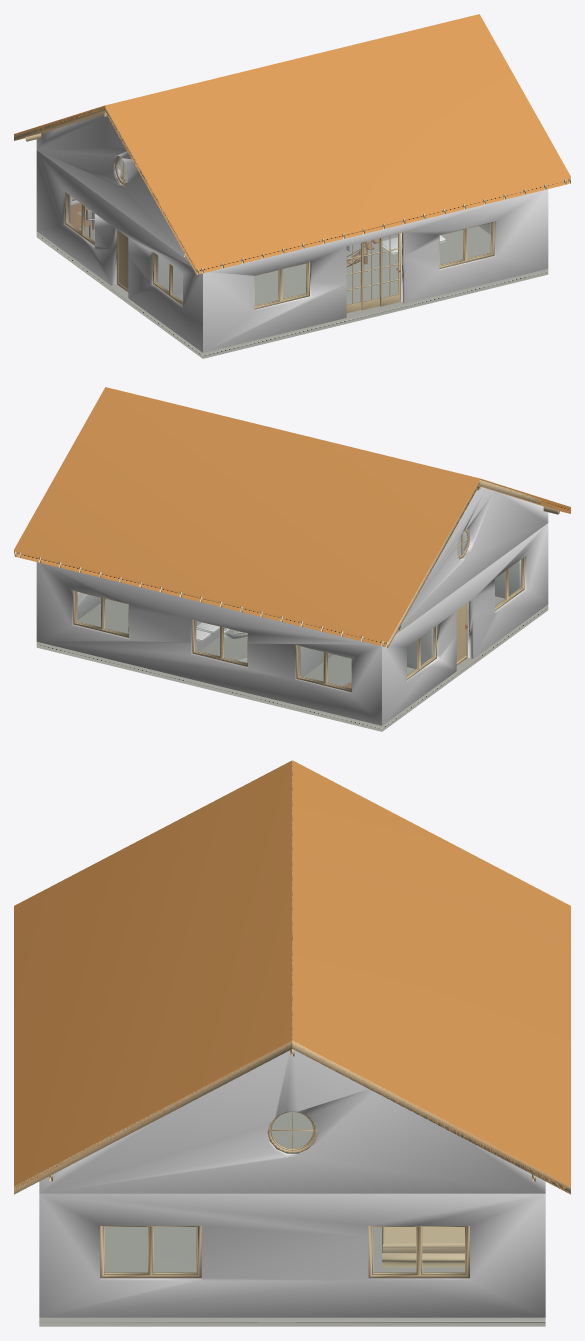
Rendered from tin.glb.
The picture shows the model from 3 angles, top to bottom: view 1: azimuth 30°, elevation 25°; view 2: azimuth 150°, elevation 25°; view 3: azimuth 270°, elevation 25°; orthographic projection. The views are drawn at different scales.
Parts seen in each view (by area): view 1: rootNode; view 2: rootNode; view 3: rootNode.
Part boxes in pixels (x1,y1,x2,y2): rootNode: (14,14,570,358); rootNode: (14,387,570,731); rootNode: (14,760,570,1326).
Size of the model in its own units: 13 by 6.52 by 11.
